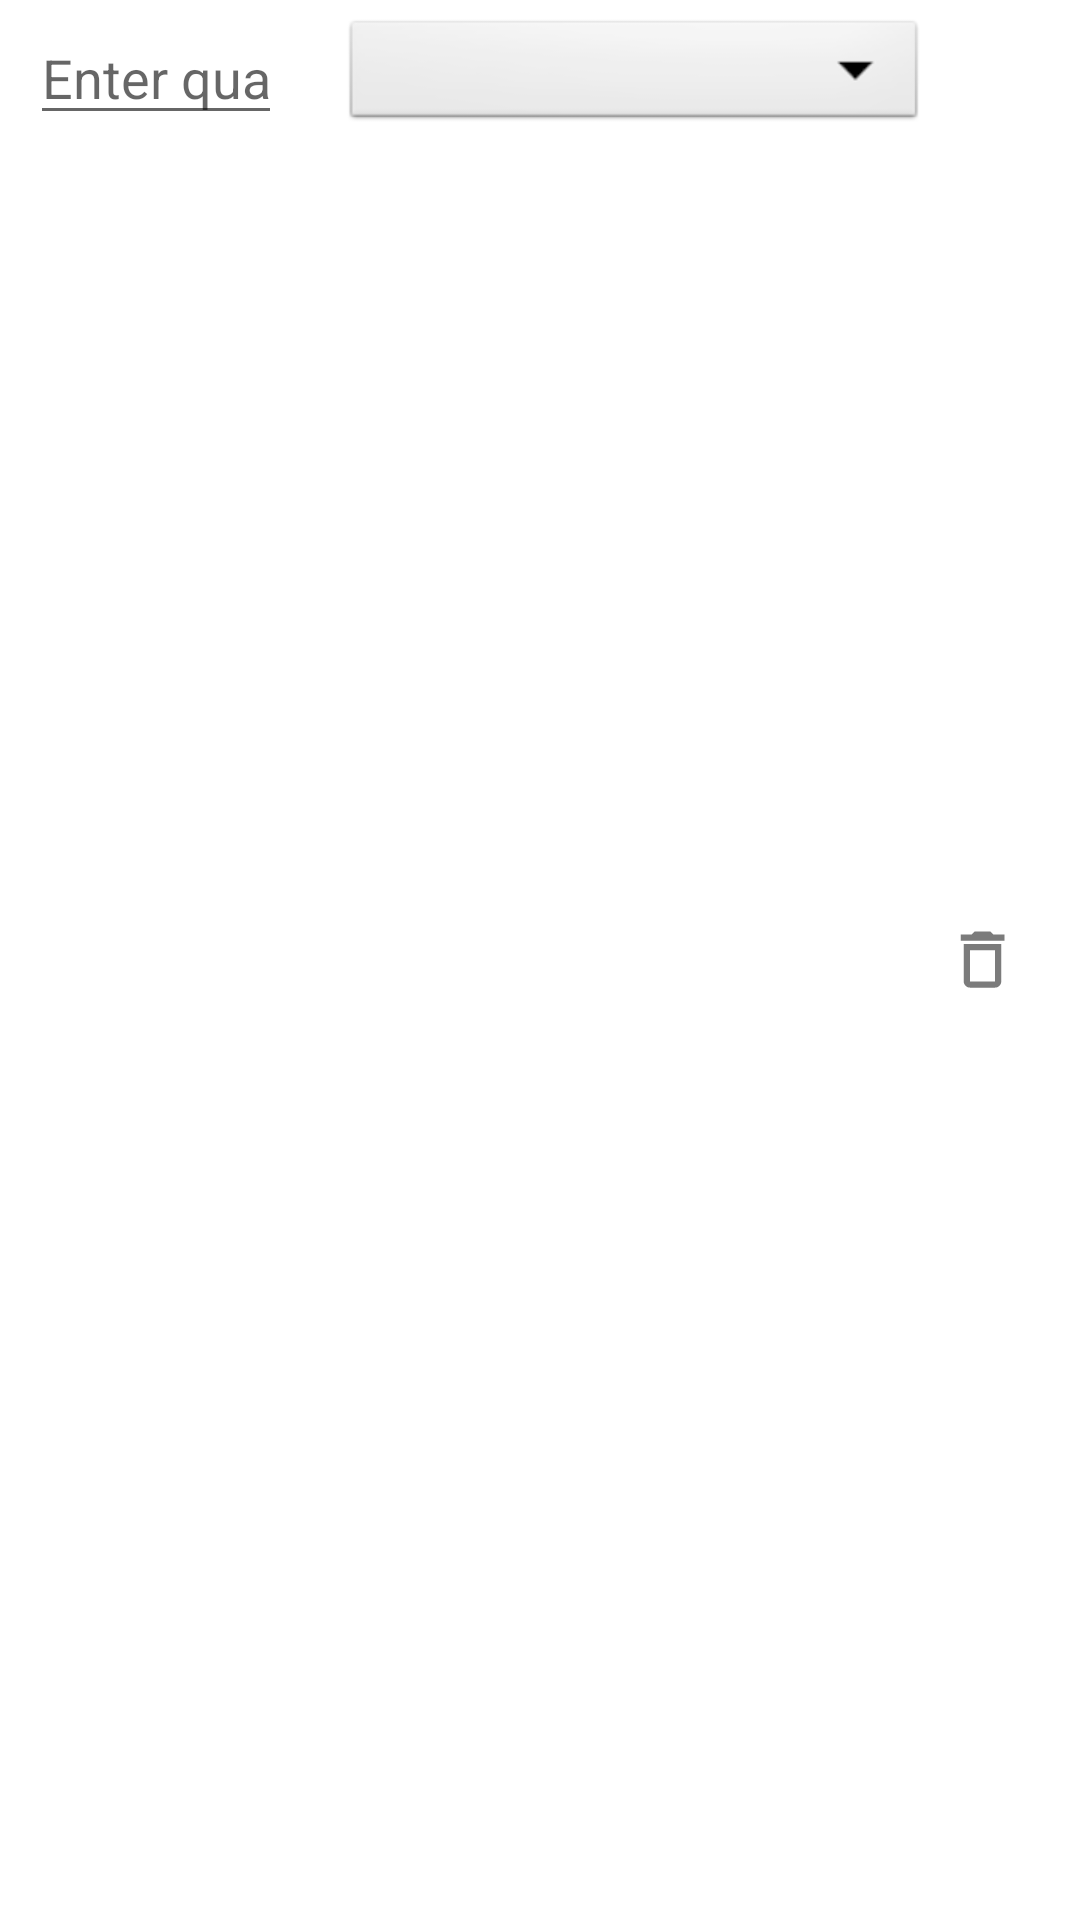

Named icons in this screenshot (1080px x 1920px) and their centers, (x=x, y=y):
delete: (x=982, y=959)
